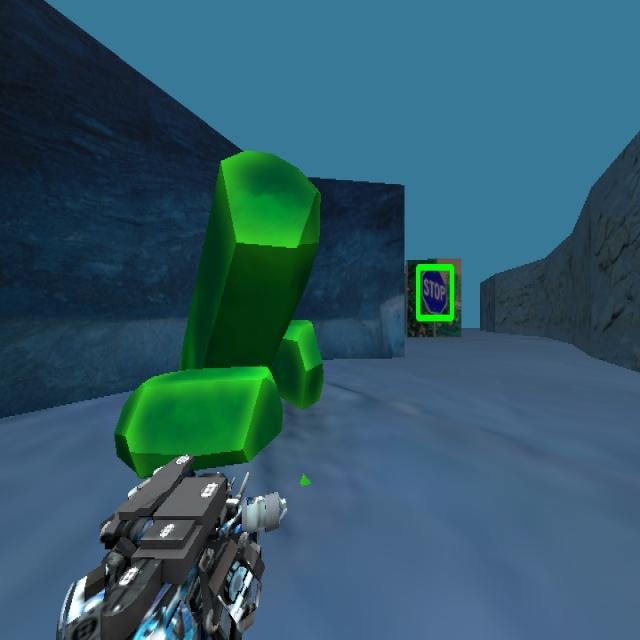Diamon: (113, 149, 324, 480)
Stop_Sign: (414, 261, 454, 323)
